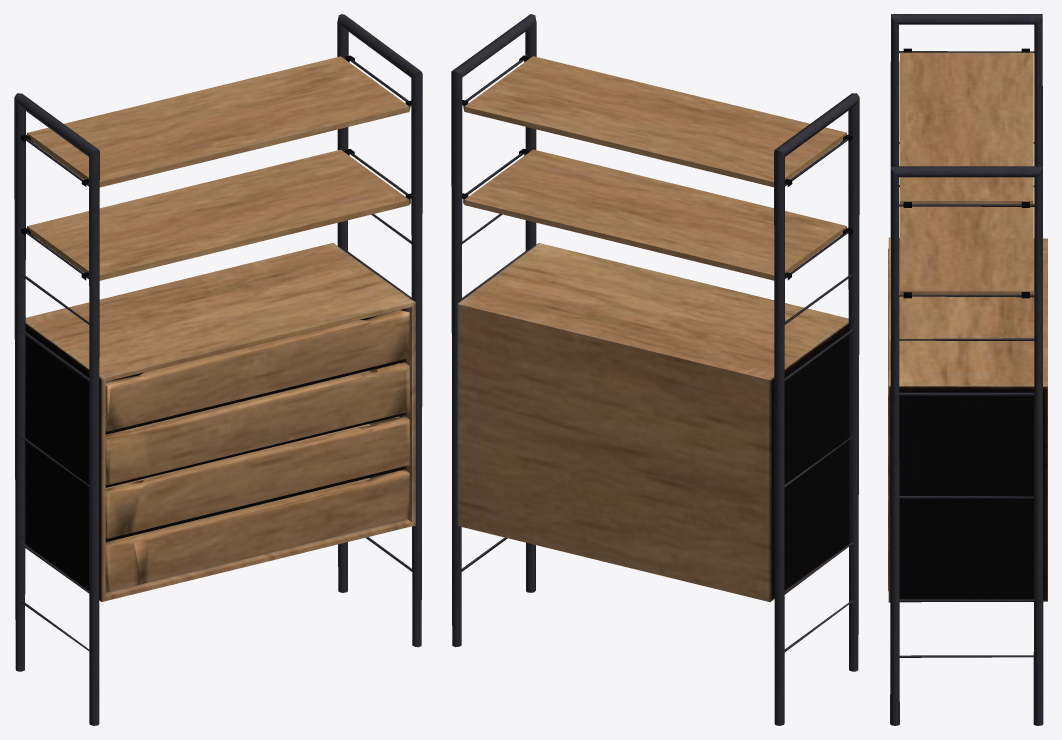
The model's file is cupboard_lod1.glb.
3 views of the same model, side by side, from view 1: azimuth 30°, elevation 25°; view 2: azimuth 150°, elevation 25°; view 3: azimuth 270°, elevation 25° (orthographic). The views are drawn at different scales.
Size of the model in its own units: 1.14 by 1.88 by 0.488.
Materials: 1 (1 with a texture image).
